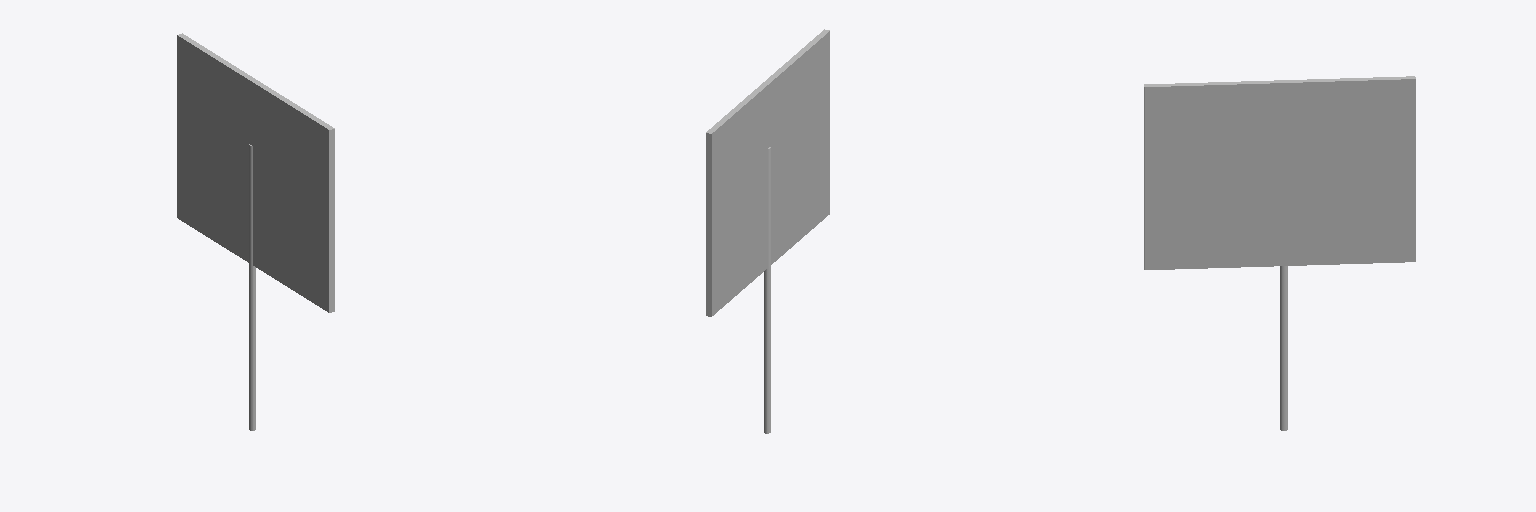
Rendered from board_3.obj.
The picture shows the model from 3 angles: view 1: azimuth 30°, elevation 25°; view 2: azimuth 150°, elevation 25°; view 3: azimuth 270°, elevation 25°; orthographic projection.
Visible parts, largest first — view 1: Cube.002_Cube.003, Cylinder.002; view 2: Cube.002_Cube.003, Cylinder.002; view 3: Cube.002_Cube.003, Cylinder.002.
Part boxes in pixels (x1,y1,x2,y2): Cube.002_Cube.003: (177,33,334,312); Cylinder.002: (249,144,255,430); Cube.002_Cube.003: (706,29,829,316); Cylinder.002: (764,147,770,433); Cube.002_Cube.003: (1144,76,1415,269); Cylinder.002: (1280,266,1287,430).
Size of the model in its own units: 0.0493 by 0.7229 by 0.511.